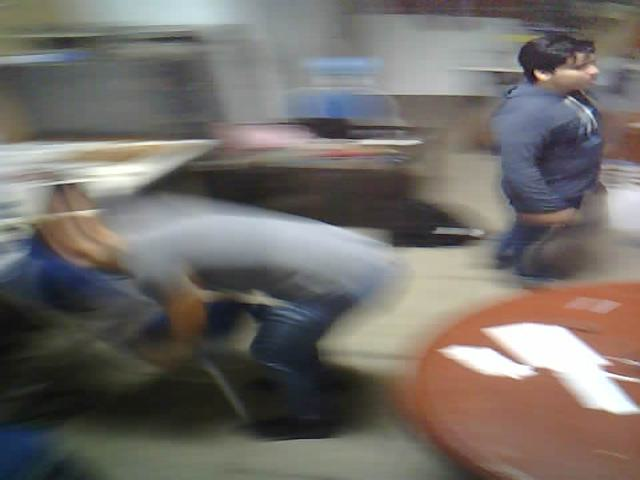person: (6, 157, 412, 458), (467, 9, 623, 295)
